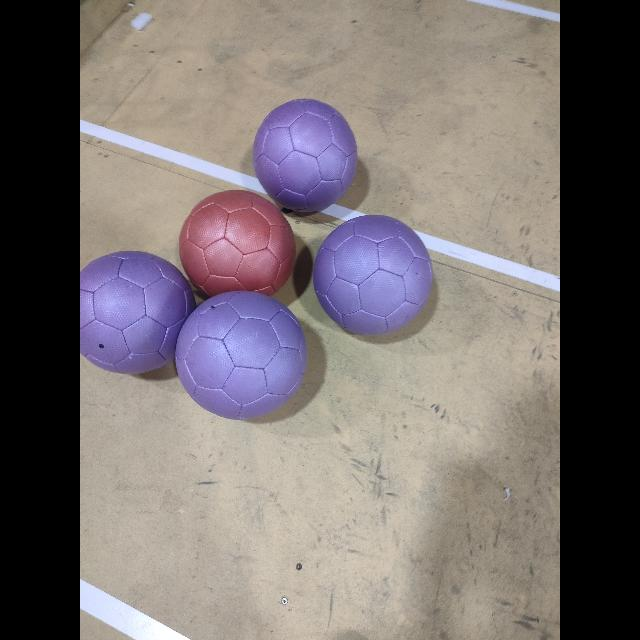P: (175, 284, 307, 424), (314, 215, 432, 335), (80, 251, 196, 373), (253, 98, 357, 212)
R: (179, 190, 295, 296)
